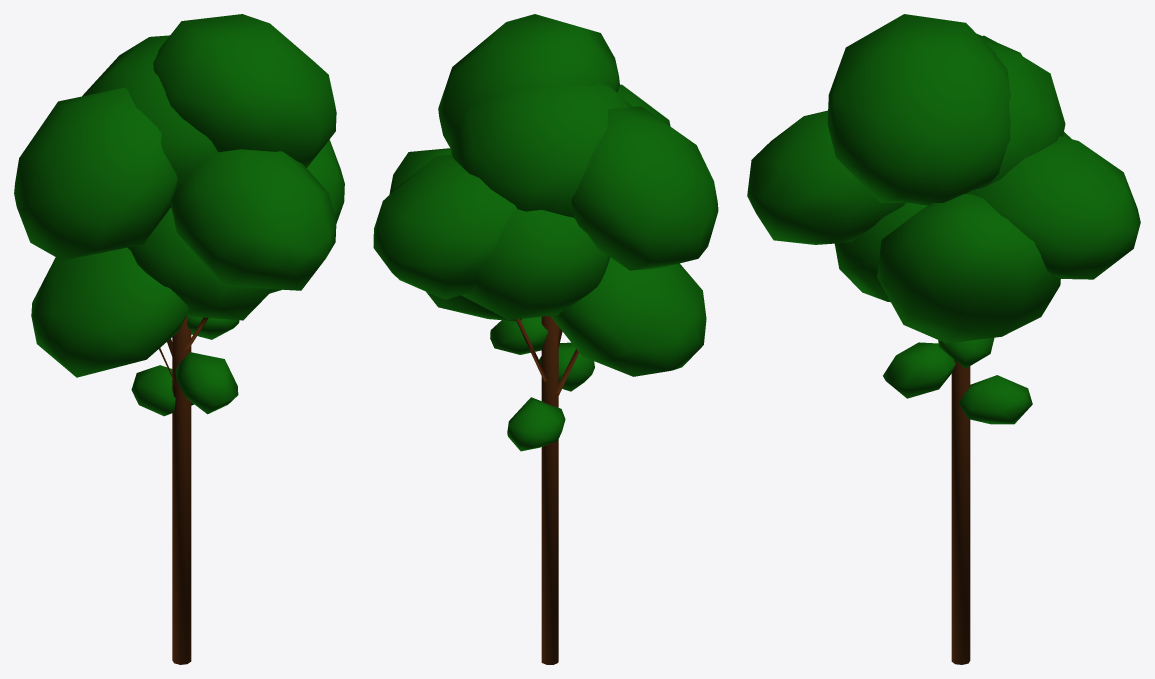
Rendered from Tree.fbx.
3 views of the same model, side by side, from view 1: azimuth 30°, elevation 25°; view 2: azimuth 150°, elevation 25°; view 3: azimuth 270°, elevation 25° (orthographic). The views are drawn at different scales.
Parts seen in each view (by area): view 1: Tree; view 2: Tree; view 3: Tree.
Part boxes in pixels (bbox=[...]): Tree: bbox=[14, 14, 344, 664]; Tree: bbox=[373, 14, 718, 664]; Tree: bbox=[747, 14, 1140, 664].
Size of the model in its own units: 238 by 465 by 257.
